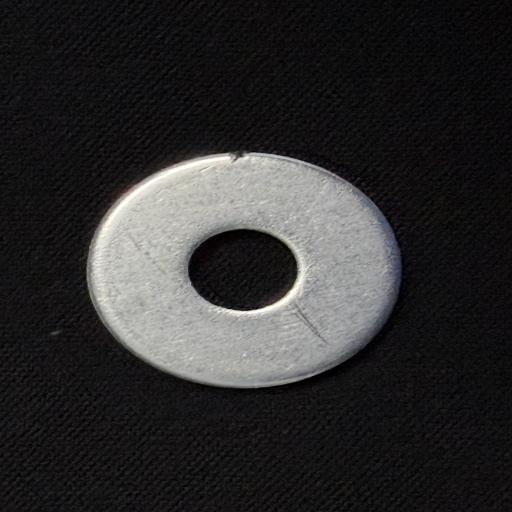Scratch: (288, 298, 338, 346)
chip off: (213, 140, 257, 168)
